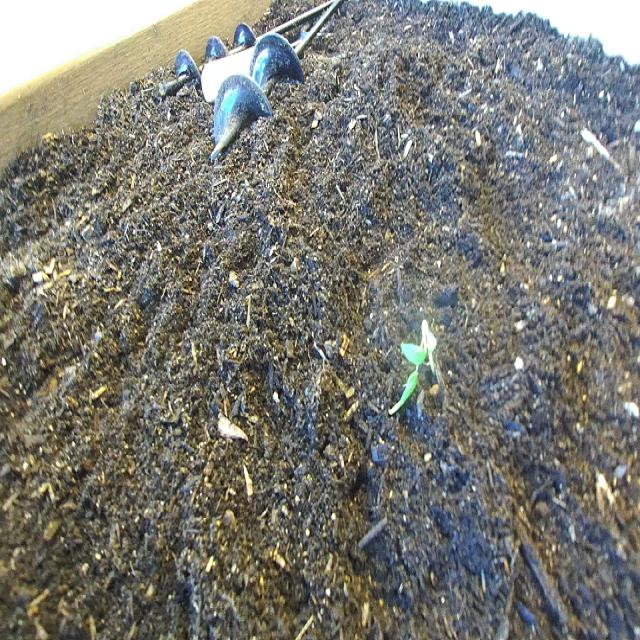Healthy: (384, 296, 454, 433)
